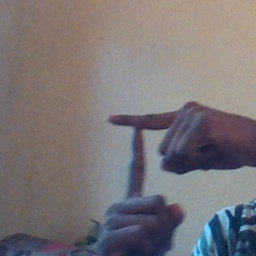T: (99, 100, 193, 219)
